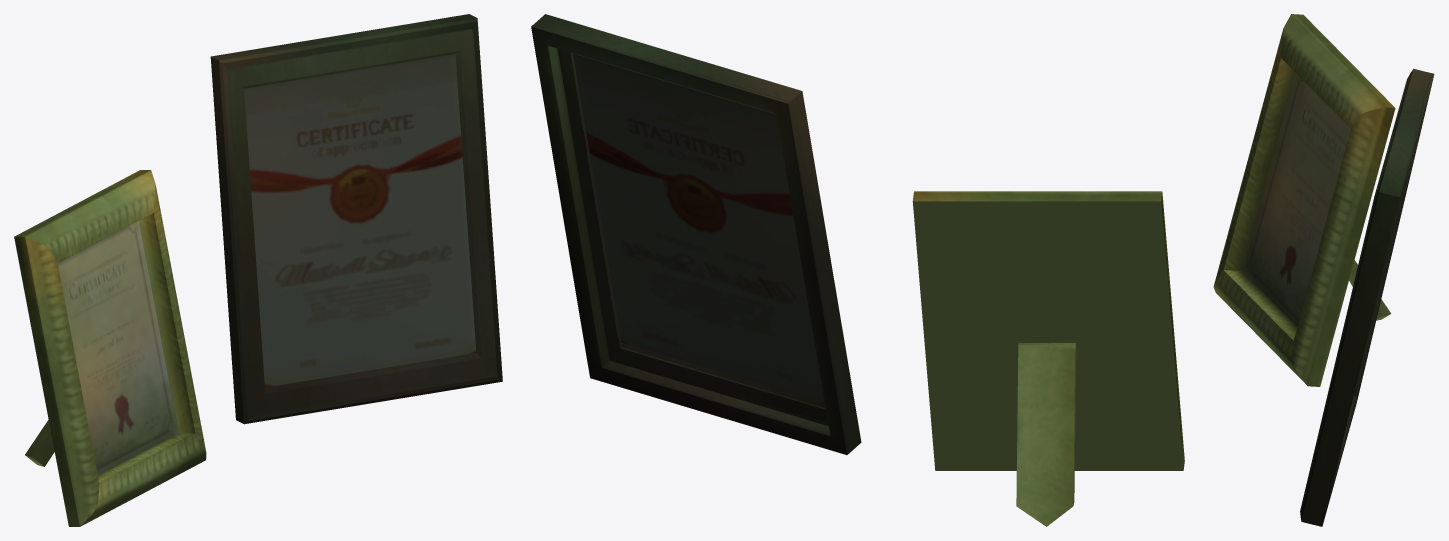
File: Certi.fbx
The picture shows the model from 3 angles, left to right: view 1: azimuth 30°, elevation 25°; view 2: azimuth 150°, elevation 25°; view 3: azimuth 270°, elevation 25°; orthographic projection. The views are drawn at different scales.
Parts seen in each view (by area): view 1: Certi_Medal; view 2: Certi_Medal; view 3: Certi_Medal.
Boxes of the visible parts, x1,y1,x2,y2 form: Certi_Medal: (14,14,502,526); Certi_Medal: (531,14,1184,526); Certi_Medal: (1213,14,1434,526).
Bounding box in the file's own units: 172 × 114 × 64.56.
